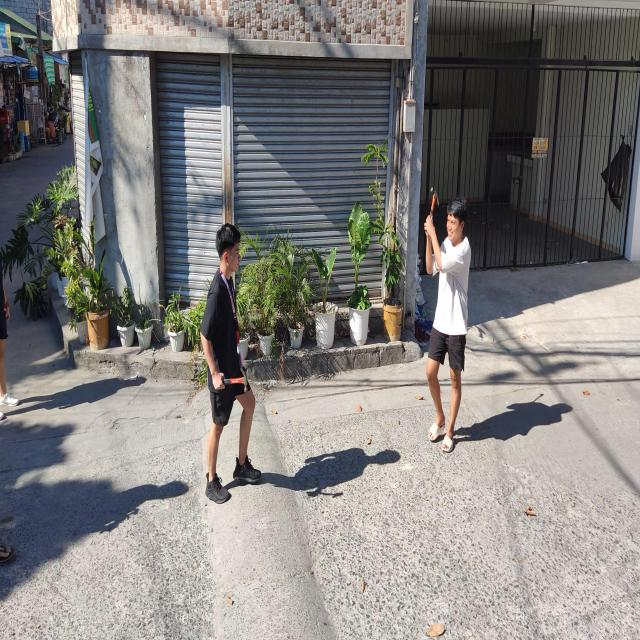hammer: (213, 368, 248, 392), (429, 187, 438, 221)
